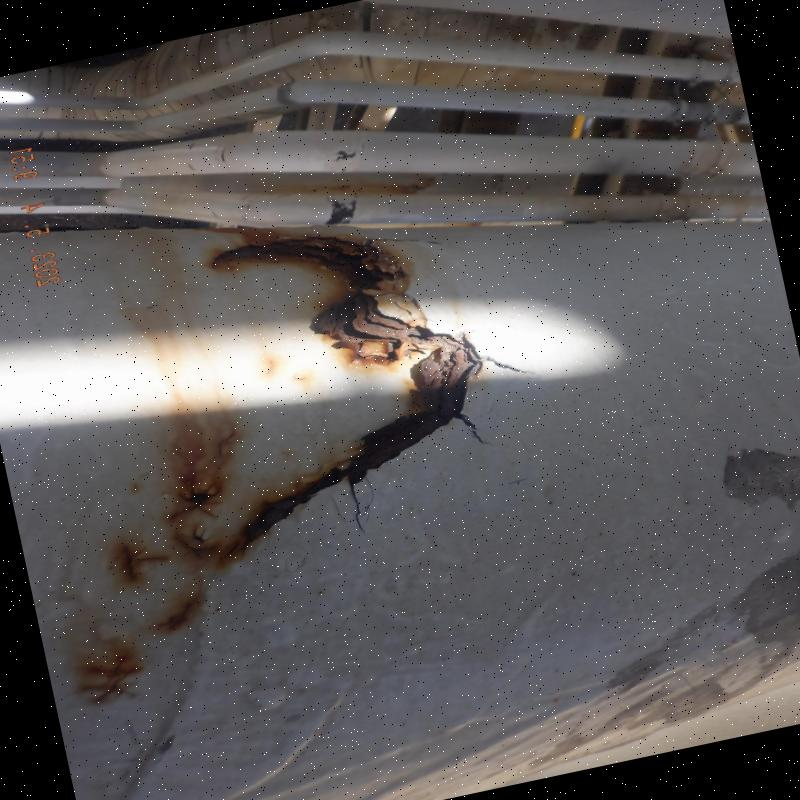corrosion: (326, 234, 466, 445), (241, 474, 349, 512)
